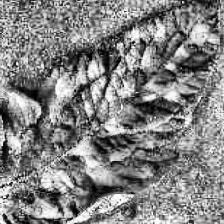leaf mold: (0, 0, 223, 219)
